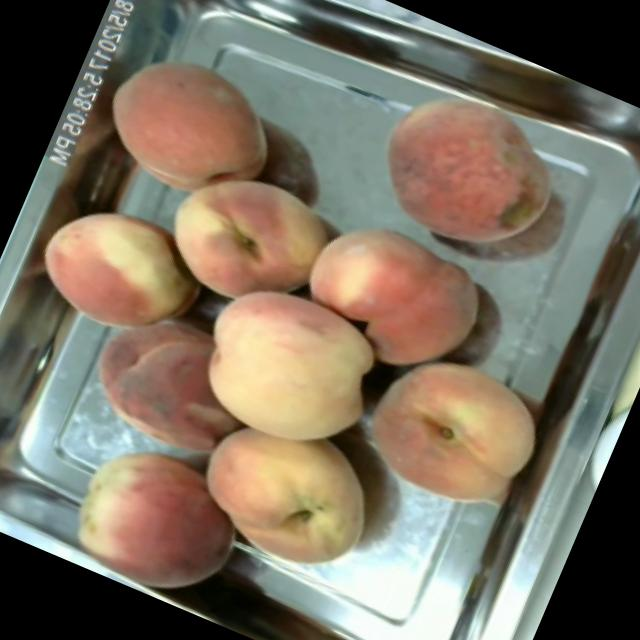Fruit: (348, 61, 586, 280), (164, 260, 400, 480), (167, 386, 401, 602), (38, 410, 268, 620), (274, 198, 503, 404), (337, 324, 559, 536), (58, 274, 281, 482), (78, 28, 300, 228), (8, 174, 230, 372), (137, 140, 350, 338)
